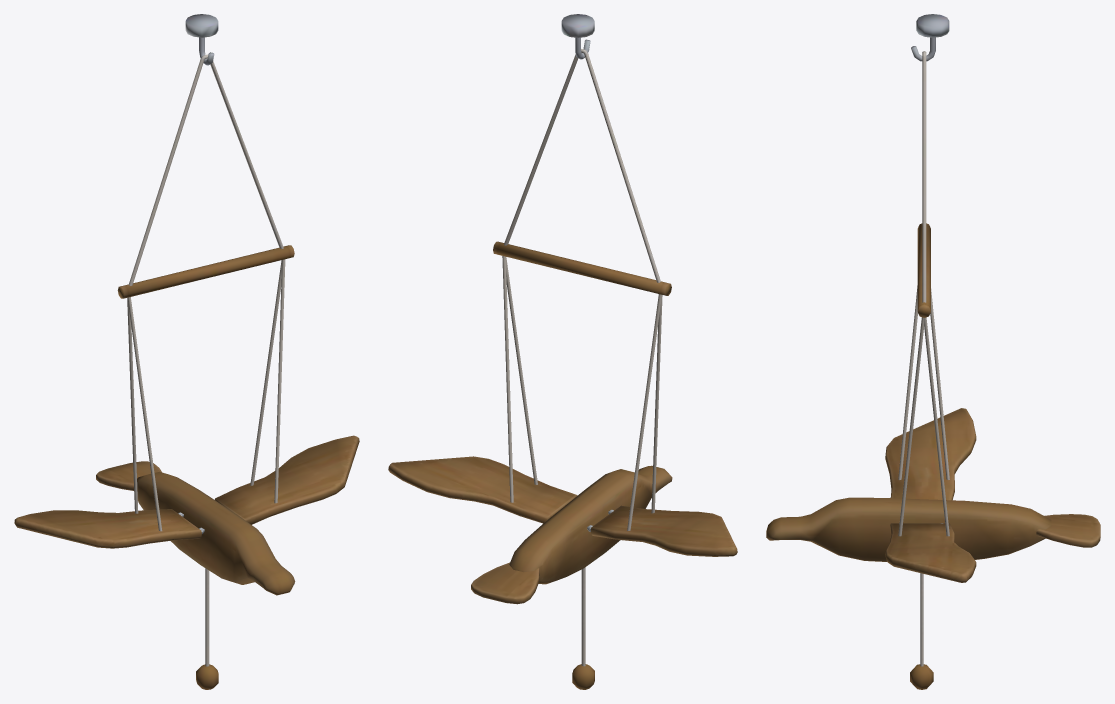
3 renders of one model, left to right at view 1: azimuth 30°, elevation 25°; view 2: azimuth 150°, elevation 25°; view 3: azimuth 270°, elevation 25°, orthographic.
Bounding box in the file's own units: 9.57 × 17.67 × 8.02.
1 material, 1 textured.
